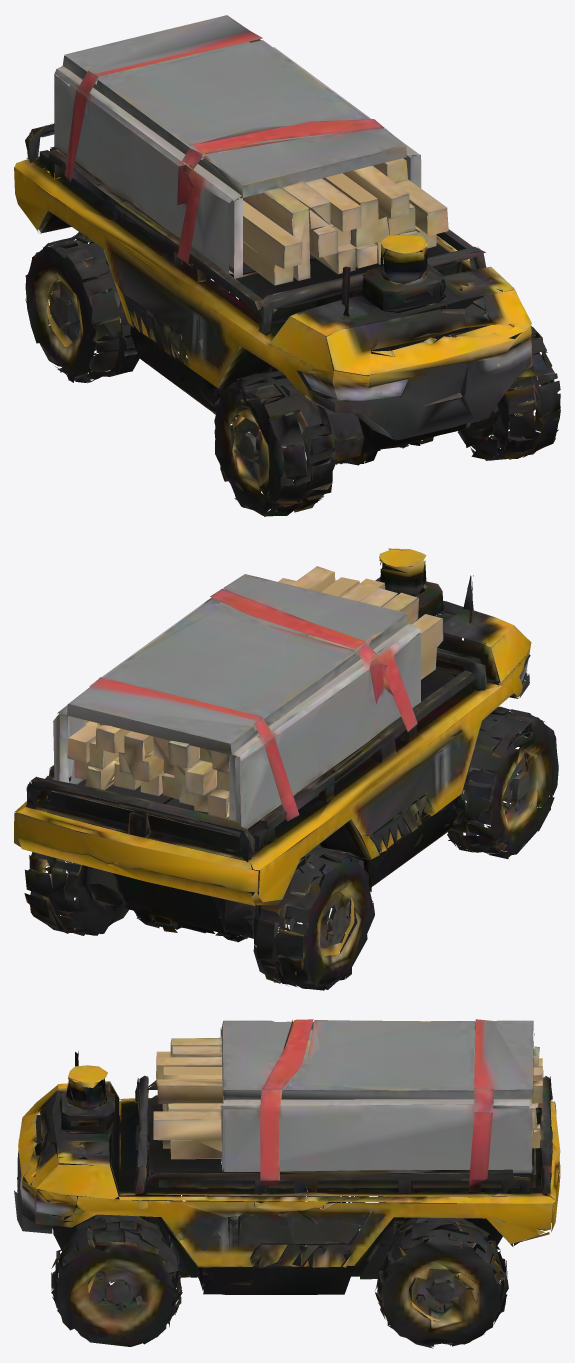
The model's file is rover-lite.glb.
The picture shows the model from 3 angles, top to bottom: view 1: azimuth 30°, elevation 25°; view 2: azimuth 150°, elevation 25°; view 3: azimuth 270°, elevation 25°; orthographic projection. The views are drawn at different scales.
Parts seen in each view (by area): view 1: world; view 2: world; view 3: world.
Boxes of the visible parts, left/top/right/bottom form: world: left=14, top=15, right=560, bottom=516; world: left=14, top=548, right=558, bottom=990; world: left=14, top=1019, right=560, bottom=1348.
Size of the model in its own units: 0.5271 by 0.4878 by 1.01.
1 material, 1 textured.
